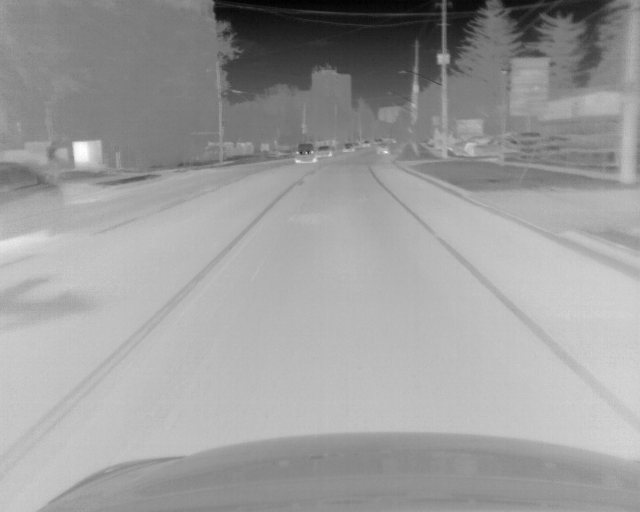car: (1, 161, 68, 303), (296, 143, 314, 164), (315, 145, 332, 160), (377, 143, 389, 155), (342, 142, 353, 152), (362, 140, 370, 148)
